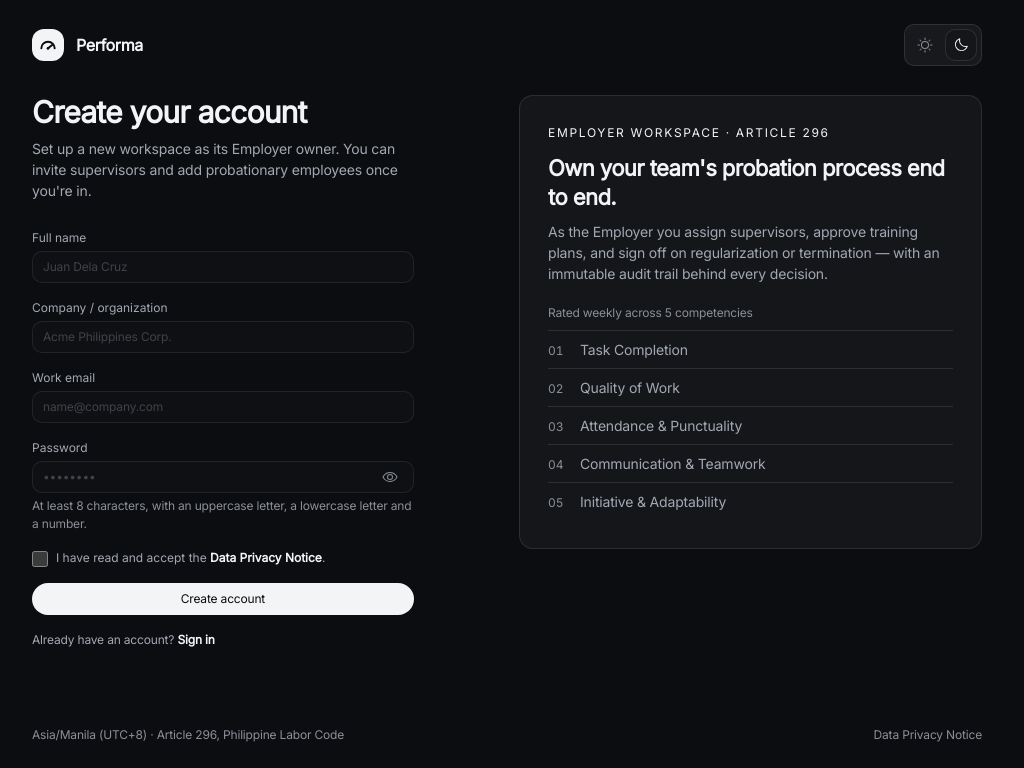
Test: Register › rejects a password shorter than 8 characters
Type "Nadia Founder" into the field labelled "Full name". click: (223, 267)
box: [32,251,414,283]
Type "Bright Co." into the field labelled "Company / organization". click: (223, 337)
box: [32,321,414,353]
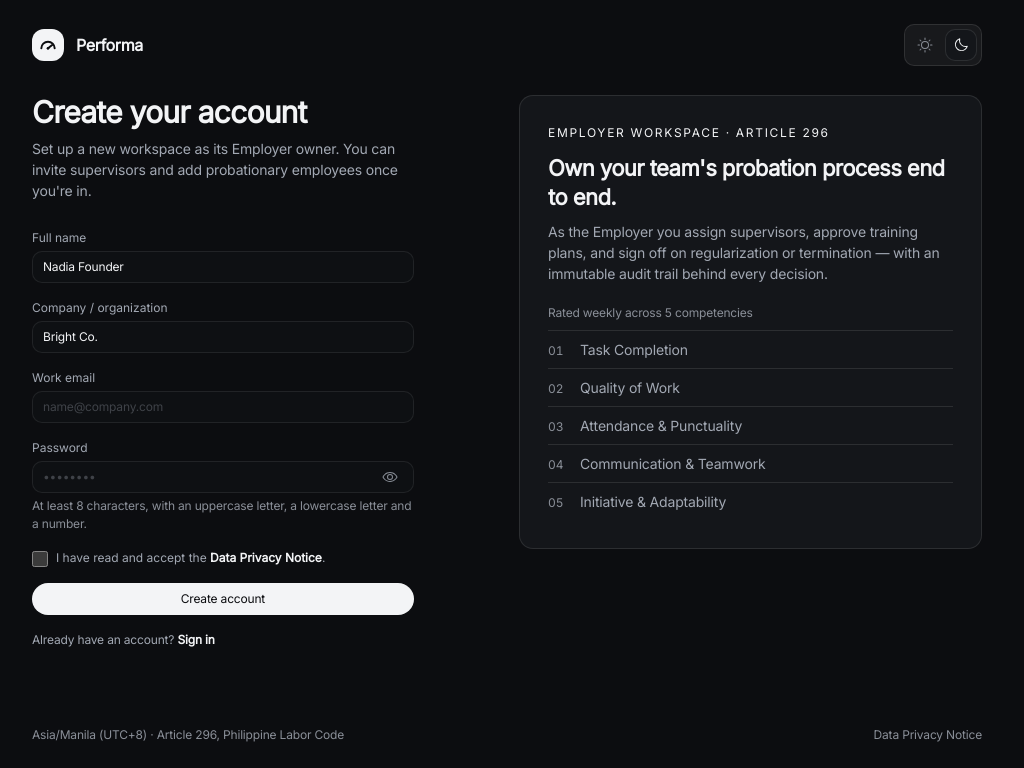
Type "nadia@bright.test" into the field labelled "Work email". click: (223, 407)
box: [32,391,414,423]
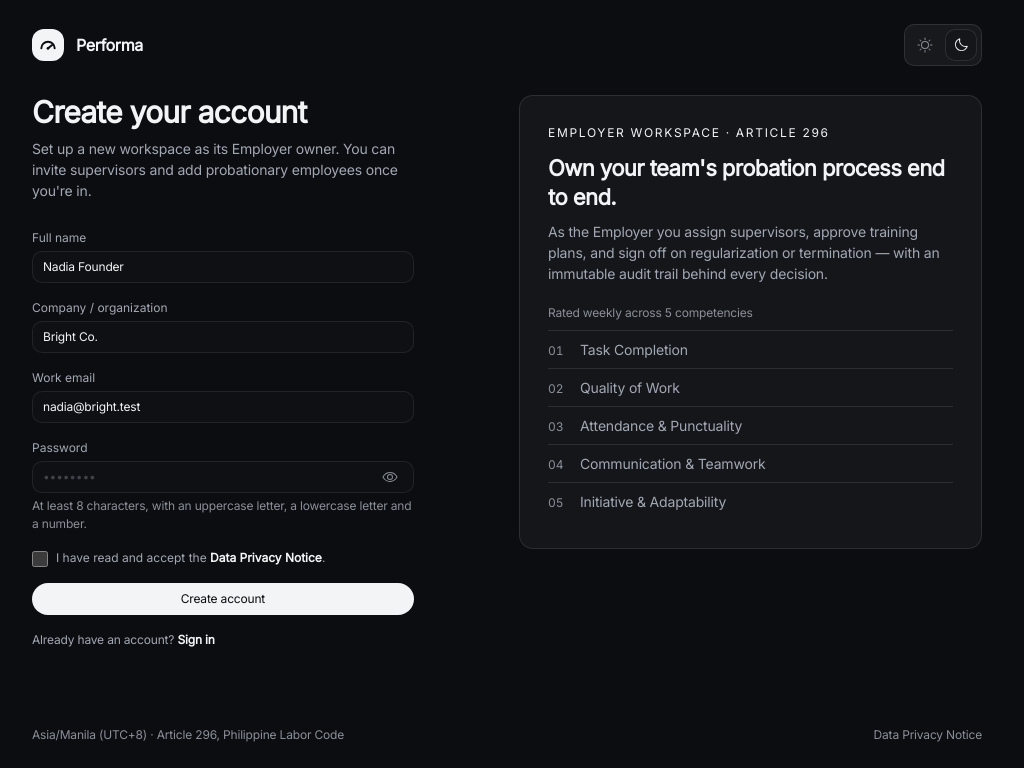
Type "Password123!" into the password field labelled "Password". click: (223, 477)
box: [32,461,414,493]
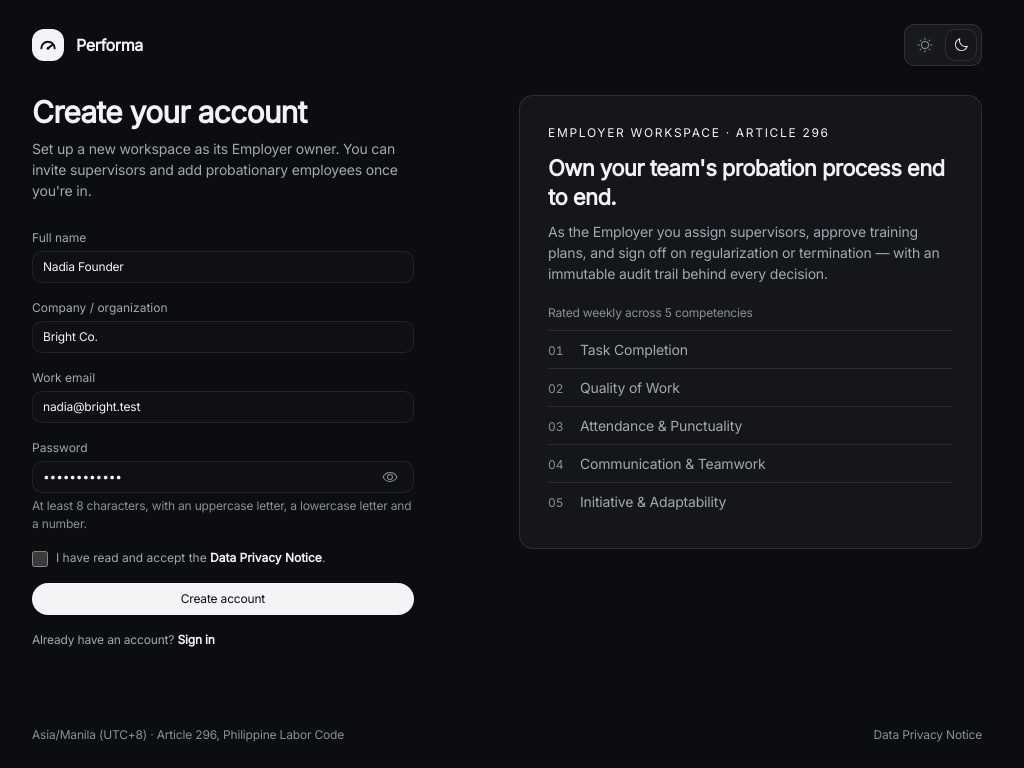
Click the checkbox. click: (40, 559)
box: [32,551,48,567]
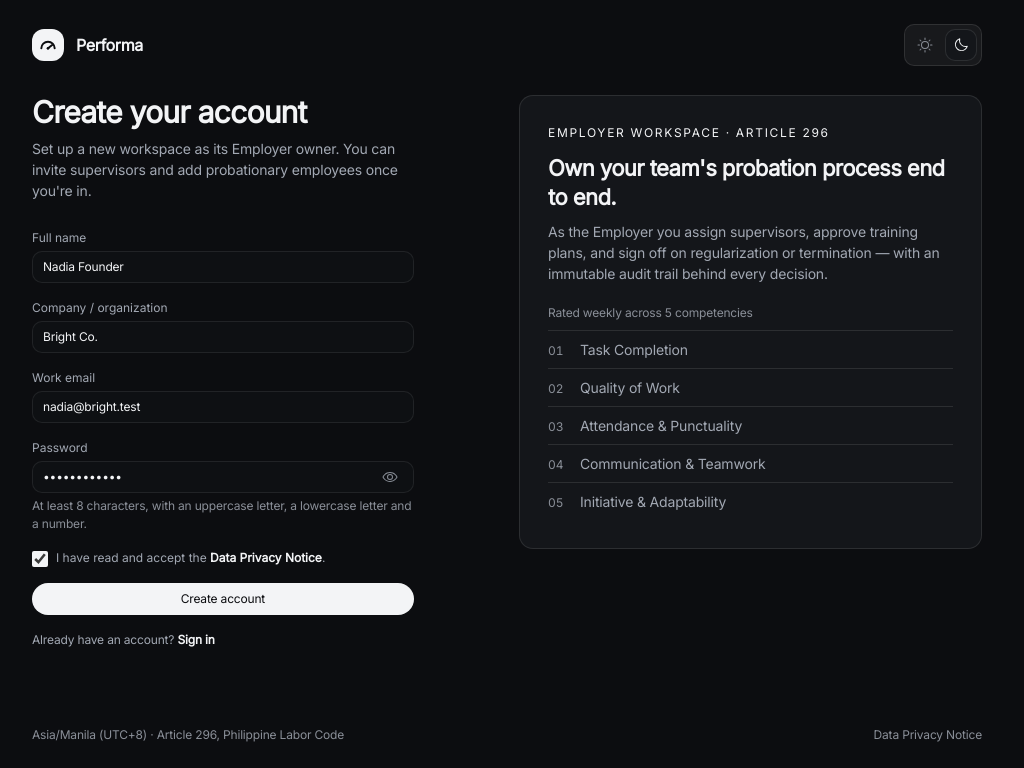
Type "short" into the password field labelled "Password". click: (223, 477)
box: [32,461,414,493]
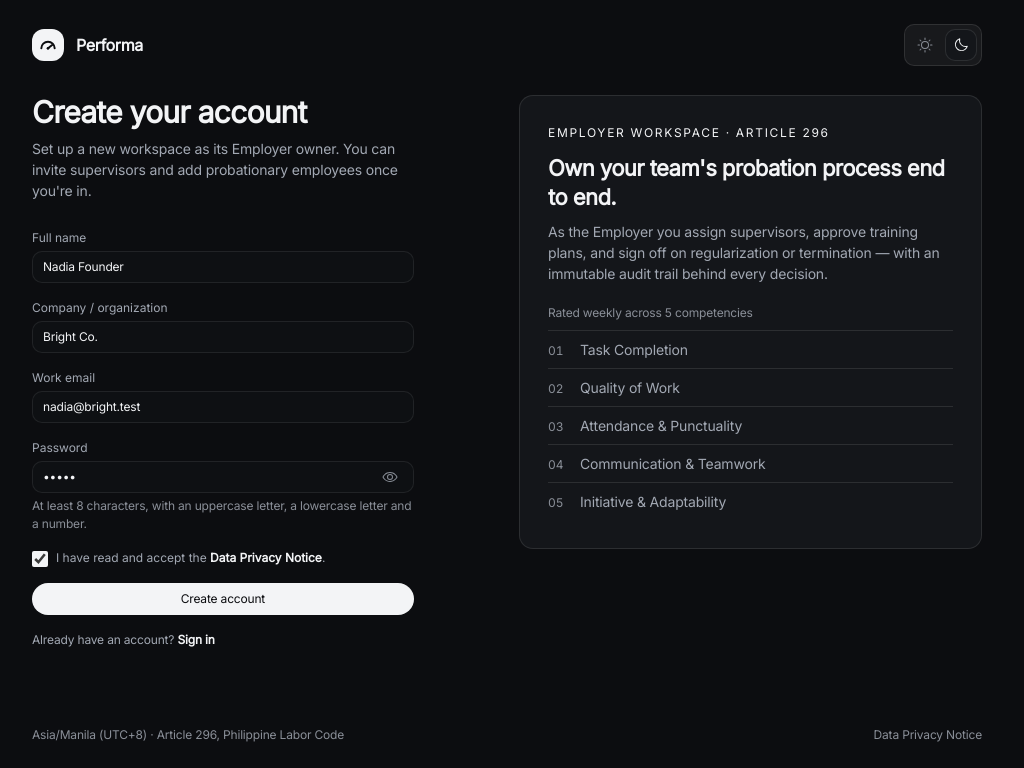
Submit the form, box [32,229,414,615]
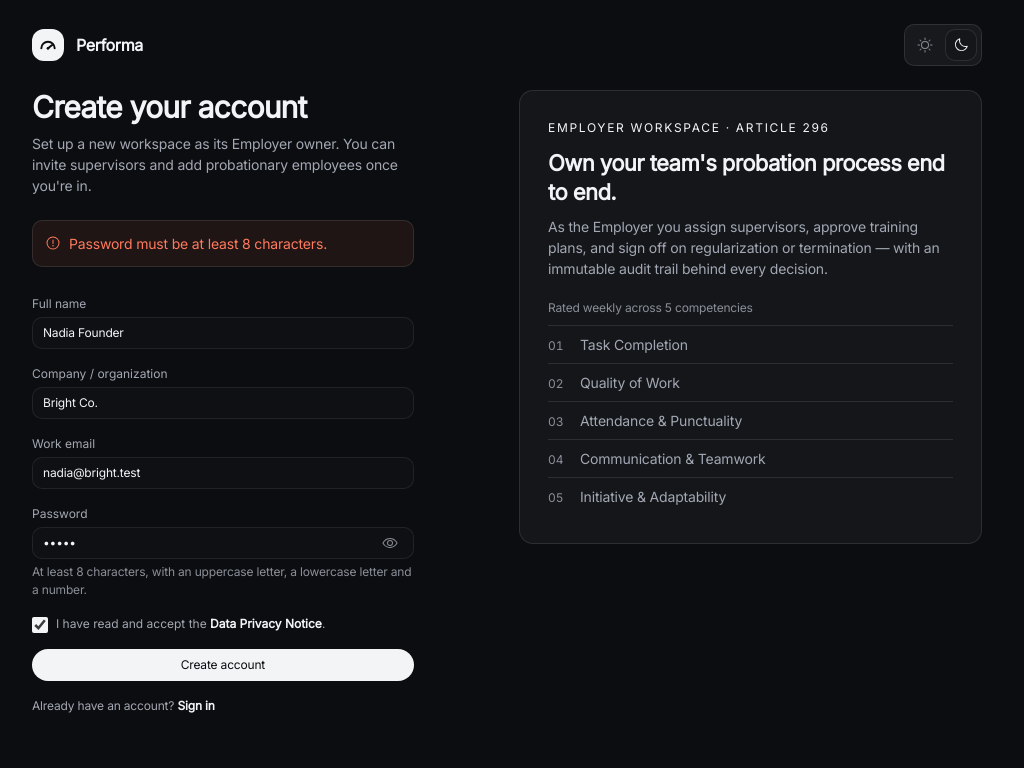
Expected: the message reads "Password must be at least 8 characters.", [69,234,327,252]
